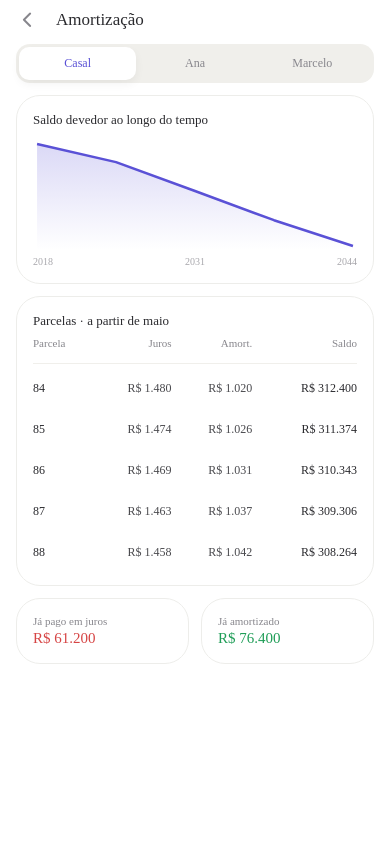
Scenario: Financiamento · amortização › trocar para Ana aplica a fatia dela
Step 1. Click the text "Ana" → (195, 64), box [185,56,205,71]
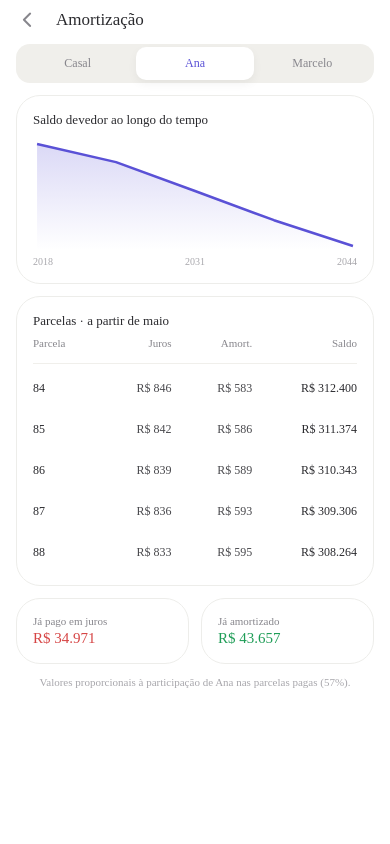
Check: the text "Valores proporcionais à participação de Ana" is shown, box [16,676,374,688]
Check: the text "R$ 34.971" is shown, box [33,630,96,646]
